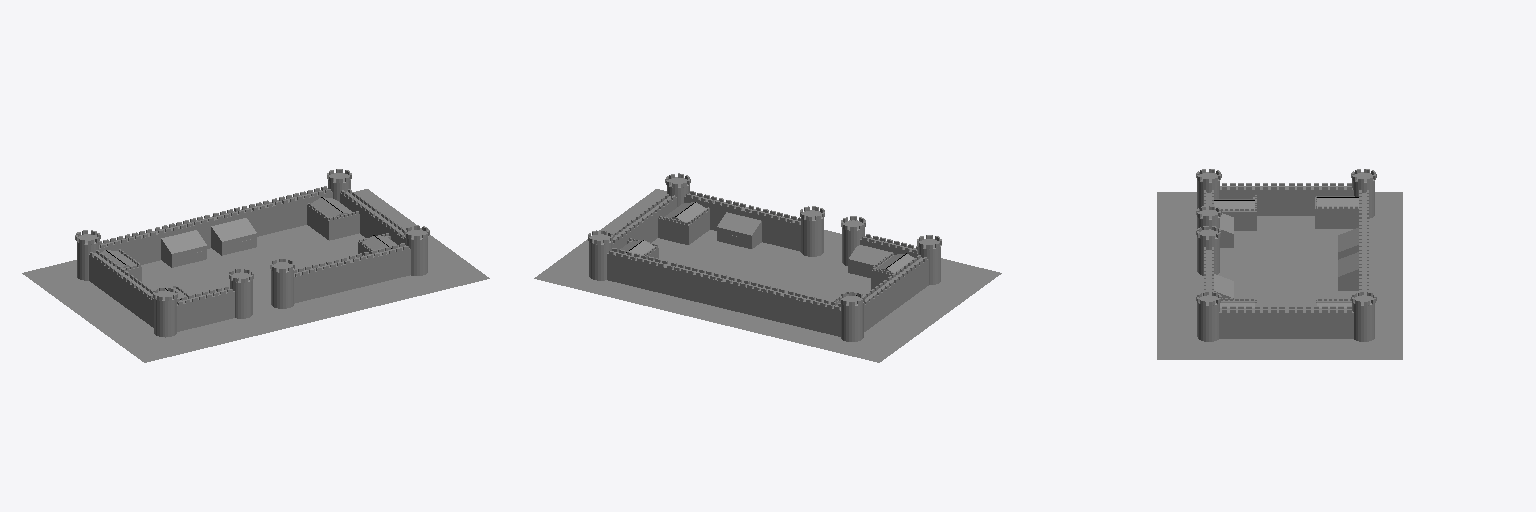
The model's file is castle.obj.
3 renders of one model, left to right at view 1: azimuth 30°, elevation 25°; view 2: azimuth 150°, elevation 25°; view 3: azimuth 270°, elevation 25°, orthographic.
Visible parts, largest first — view 1: Plane01, Box101, Box174, Box01, Box199, Box237, Cylinder07, Cylinder01, Box166, Cylinder02, Box35, Cylinder04 (+7 smaller); view 2: Plane01, Box165, Box52, Box69, Box166, Box174, Box281, Cylinder07, Cylinder03, Box18, Cylinder06, Box35 (+6 smaller); view 3: Plane01, Box103, Box167, Box18, Cylinder04, Cylinder06, Box35, Box189, Cylinder07, Box237, Cylinder03, Cylinder01.
Part boxes in pixels (x1,y1,x2,y2): Plane01: (22, 189, 489, 362); Box101: (348, 245, 410, 288); Box174: (294, 259, 351, 303); Box01: (177, 288, 234, 331); Box199: (161, 230, 206, 267); Box237: (211, 218, 256, 255); Cylinder07: (270, 258, 294, 308); Cylinder01: (153, 287, 177, 337); Box166: (270, 188, 332, 231); Cylinder02: (229, 268, 253, 318); Box35: (89, 253, 129, 304); Cylinder04: (404, 225, 429, 275); Plane01: (534, 189, 1001, 362); Box165: (665, 264, 728, 308); Box52: (782, 293, 840, 336); Box69: (724, 280, 785, 322); Box166: (607, 252, 668, 293); Box174: (743, 207, 800, 251); Box281: (717, 212, 761, 248); Cylinder07: (800, 206, 824, 256); Cylinder03: (839, 292, 864, 341); Box18: (887, 257, 928, 309); Cylinder06: (588, 230, 612, 280); Box35: (864, 282, 894, 331); Plane01: (1157, 192, 1402, 359); Box103: (1219, 308, 1286, 338); Box167: (1287, 308, 1353, 338); Box18: (1219, 186, 1286, 215); Cylinder04: (1196, 291, 1221, 341); Cylinder06: (1351, 291, 1376, 341); Box35: (1287, 186, 1353, 215); Box189: (1317, 208, 1358, 228); Cylinder07: (1196, 226, 1221, 275); Box237: (1338, 252, 1358, 290); Cylinder03: (1351, 169, 1376, 218); Cylinder01: (1196, 169, 1221, 208).
Bounding box in the file's own units: 6159 × 704 × 3791.